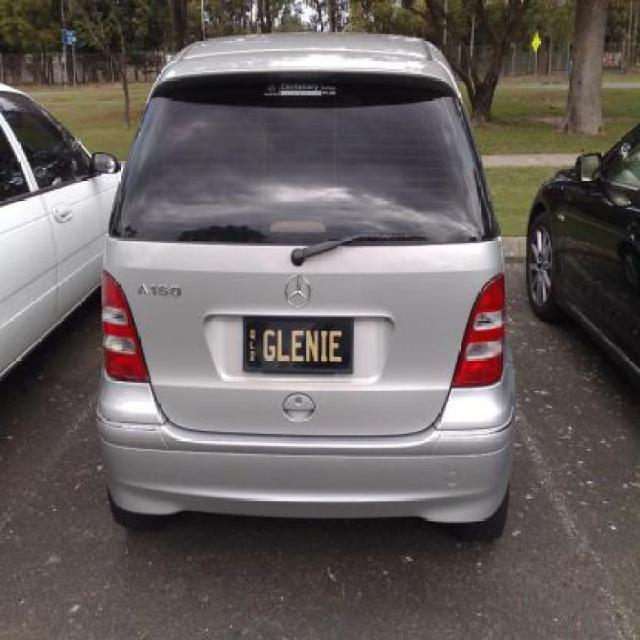License-Plates: (244, 316, 353, 374)
